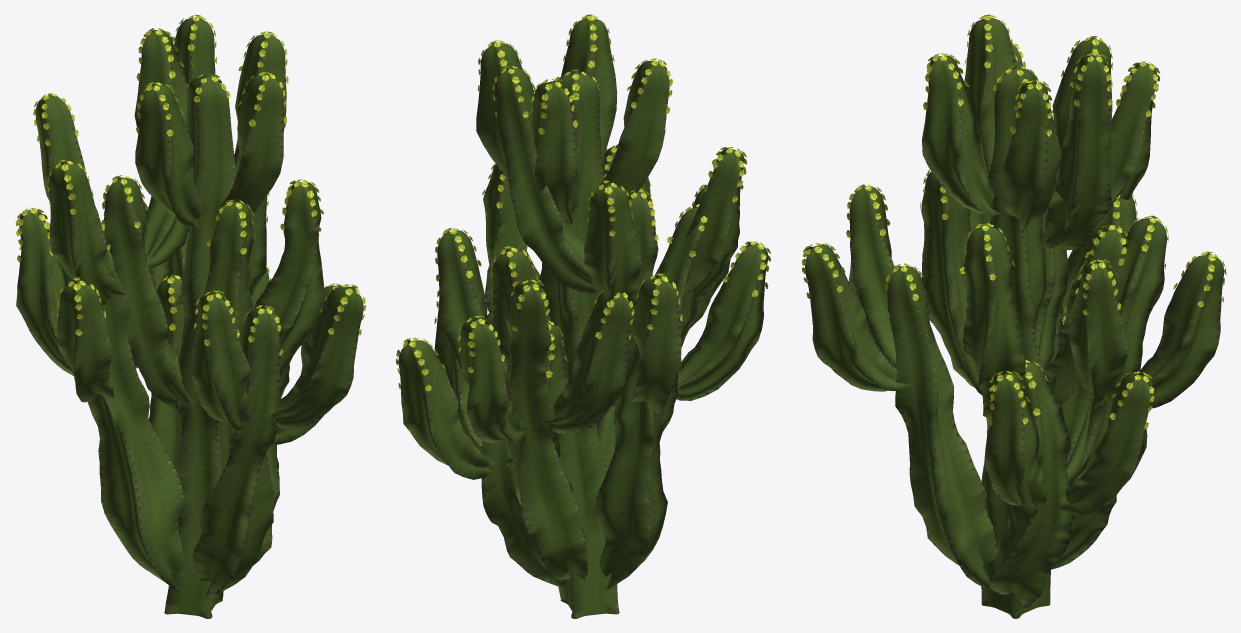
The model's file is runtime-jasminocereus-1.glb.
3 views of the same model, side by side, from view 1: azimuth 30°, elevation 25°; view 2: azimuth 150°, elevation 25°; view 3: azimuth 270°, elevation 25° (orthographic). The views are drawn at different scales.
Visible parts, largest first — view 1: Euphorbia_candelabrum_HD; view 2: Euphorbia_candelabrum_HD; view 3: Euphorbia_candelabrum_HD.
Part boxes in pixels (x1,y1,x2,y2): Euphorbia_candelabrum_HD: (15,14,365,618); Euphorbia_candelabrum_HD: (396,14,770,618); Euphorbia_candelabrum_HD: (801,14,1226,618).
Bounding box in the file's own units: 0.5311 × 0.9152 × 0.6192.
5 materials, 5 textured.
